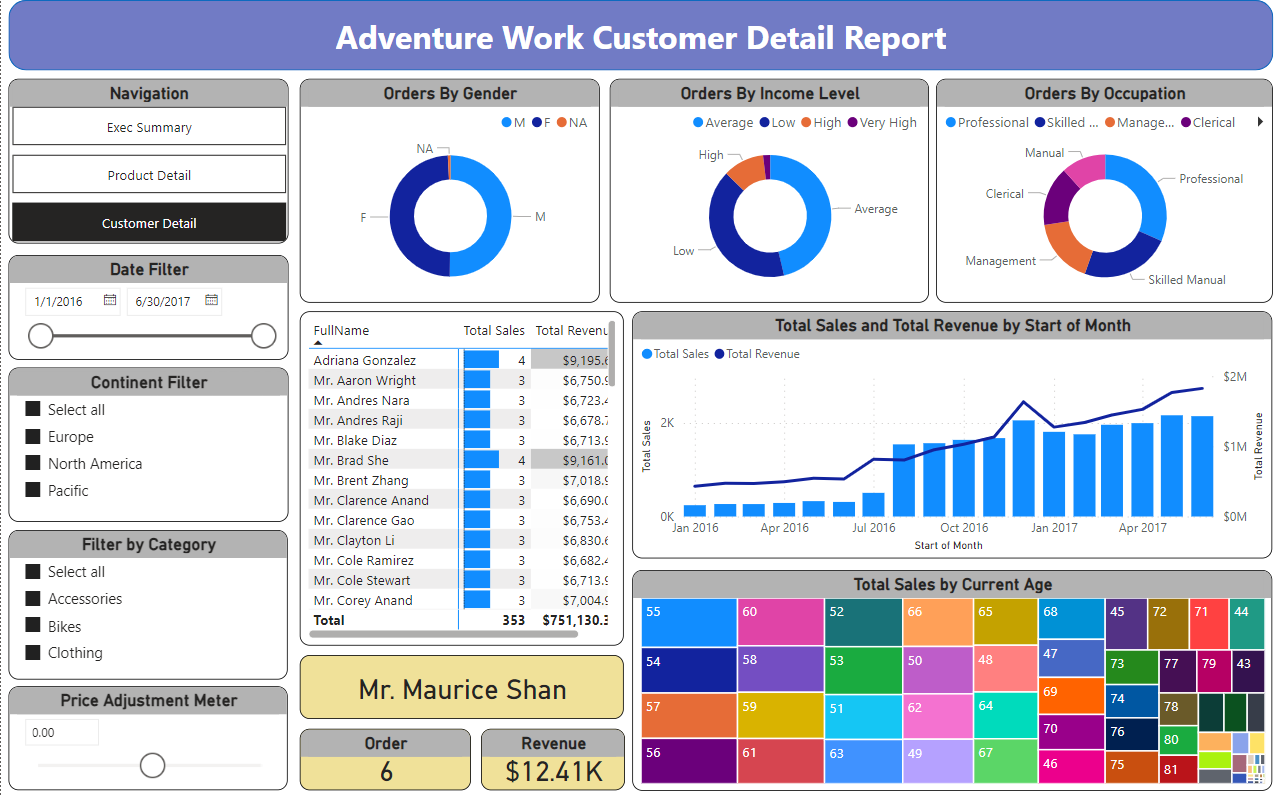

The dashboard page shown, as its layout file describes it:
{"tool":"powerbi","page":{"name":"Customer Detail","canvas":[1280,720],"ordinal":2},"visuals":[{"type":"pivotTable","fields":{"Rows":["AW_Customer_Lookup.FullName"],"Values":["AW_Sales.Total Sales","AW_Sales.Total Revenue"]},"box":[288,224,336,352],"z":0},{"type":"donutChart","title":"Orders By Gender","fields":{"Category":["AW_Customer_Lookup.Gender"],"Y":["AW_Sales.Total Sales"]},"box":[288,0,304,224],"z":1000},{"type":"donutChart","title":"Orders By Income Level","fields":{"Category":["AW_Customer_Lookup.IncomeLevel"],"Y":["AW_Sales.Total Sales"]},"box":[592,0,336,224],"z":2000},{"type":"donutChart","title":"Orders By Occupation","fields":{"Y":["AW_Sales.Total Sales"],"Category":["AW_Customer_Lookup.Occupation"]},"box":[928,0,352,224],"z":3000},{"type":"lineStackedColumnComboChart","fields":{"Category":["AW_Calendar_Lookup.Start of Month"],"Y":["AW_Sales.Total Sales"],"Y2":["AW_Sales.Total Revenue"]},"box":[624,224,656,256],"z":4000},{"type":"treemap","fields":{"Group":["AW_Customer_Lookup.Current Age"],"Values":["AW_Sales.Total Sales"]},"box":[624,480,656,240],"z":5000},{"type":"card","fields":{"Values":["Min(AW_Customer_Lookup.FullName)"]},"box":[288,576,336,64],"z":6000},{"type":"card","title":"Order","fields":{"Values":["AW_Sales.Total Sales"]},"box":[288,640,192,80],"z":7000},{"type":"card","title":"Revenue","fields":{"Values":["AW_Sales.Total Revenue"]},"box":[480,640,144,80],"z":8000},{"type":"pageNavigator","title":"Navigation","box":[0,0,288,176],"z":9000},{"type":"slicer","title":"Date Filter","fields":{"Values":["AW_Calendar_Lookup.Date"]},"box":[0,176,288,112],"z":10000},{"type":"slicer","title":"Continent Filter","fields":{"Values":["AW_Territories_Lookup.Continent"]},"box":[0,288,288,176],"z":10001},{"type":"slicer","title":"Filter by Category","fields":{"Values":["AW_Product_Categories_Lookup.CategoryName"]},"box":[0,464,288,160],"z":10002},{"type":"slicer","title":"Price Adjustment Meter","fields":{"Values":["Price Adjustment(%).Price Adjustment(%)"]},"box":[0,608,288,112],"z":10003}]}

Visuals, with their boxes on the page's 1280x720 design canvas (x1, y1, x2, y2). These are canvas units, not pixel positions in the 1280x796 screenshot, which may show the page scaled, cropped or inside an application window:
pivotTable - AW_Customer_Lookup.FullName x AW_Sales.Total Sales: 288, 224, 624, 576
"Orders By Gender" donutChart: 288, 0, 592, 224
"Orders By Income Level" donutChart: 592, 0, 928, 224
"Orders By Occupation" donutChart: 928, 0, 1280, 224
lineStackedColumnComboChart - AW_Calendar_Lookup.Start of Month x AW_Sales.Total Sales: 624, 224, 1280, 480
treemap - AW_Customer_Lookup.Current Age x AW_Sales.Total Sales: 624, 480, 1280, 720
card - Min(AW_Customer_Lookup.FullName): 288, 576, 624, 640
"Order" card: 288, 640, 480, 720
"Revenue" card: 480, 640, 624, 720
"Navigation" pageNavigator: 0, 0, 288, 176
"Date Filter" slicer: 0, 176, 288, 288
"Continent Filter" slicer: 0, 288, 288, 464
"Filter by Category" slicer: 0, 464, 288, 624
"Price Adjustment Meter" slicer: 0, 608, 288, 720
